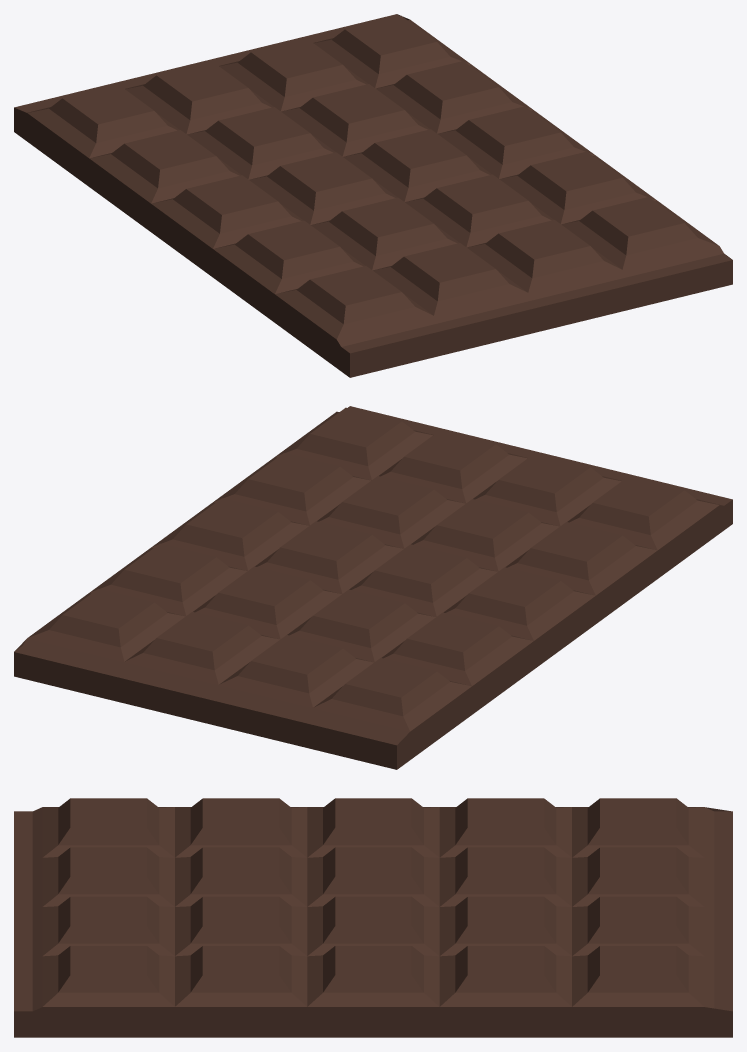
File: chocolate_bar.glb
The picture shows the model from 3 angles, top to bottom: view 1: azimuth 30°, elevation 25°; view 2: azimuth 150°, elevation 25°; view 3: azimuth 270°, elevation 25°; orthographic projection. The views are drawn at different scales.
Parts seen in each view (by area): view 1: chocolate_bar; view 2: chocolate_bar; view 3: chocolate_bar.
Part boxes in pixels (x1,y1,x2,y2): chocolate_bar: (14,14,732,377); chocolate_bar: (14,406,732,769); chocolate_bar: (14,798,732,1037).
Size of the model in its own units: 0.0987 by 0.0117 by 0.15.
